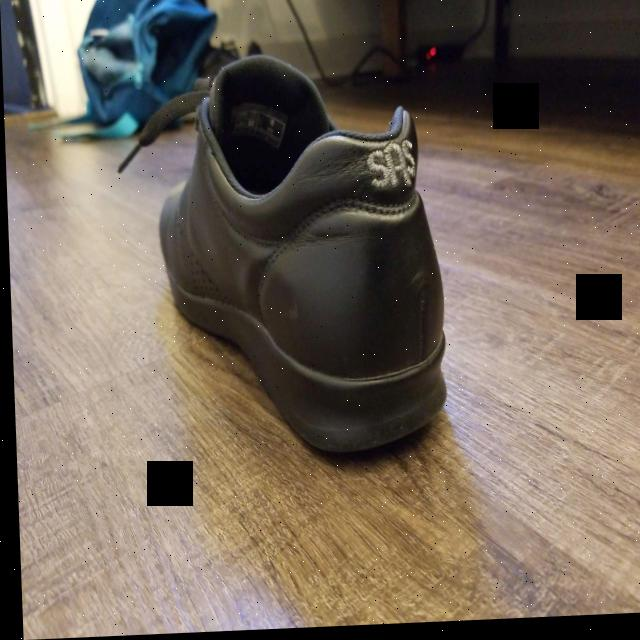shoes: (152, 48, 446, 470)
